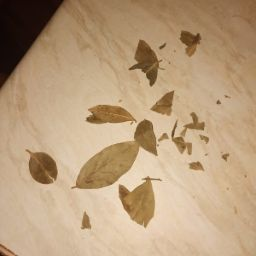Bay leaves: (9, 22, 250, 253), (144, 89, 238, 180), (72, 135, 145, 193), (124, 33, 175, 91), (116, 182, 169, 234), (10, 141, 65, 189), (130, 112, 168, 163), (77, 100, 139, 129), (163, 24, 209, 60), (75, 206, 96, 237)
